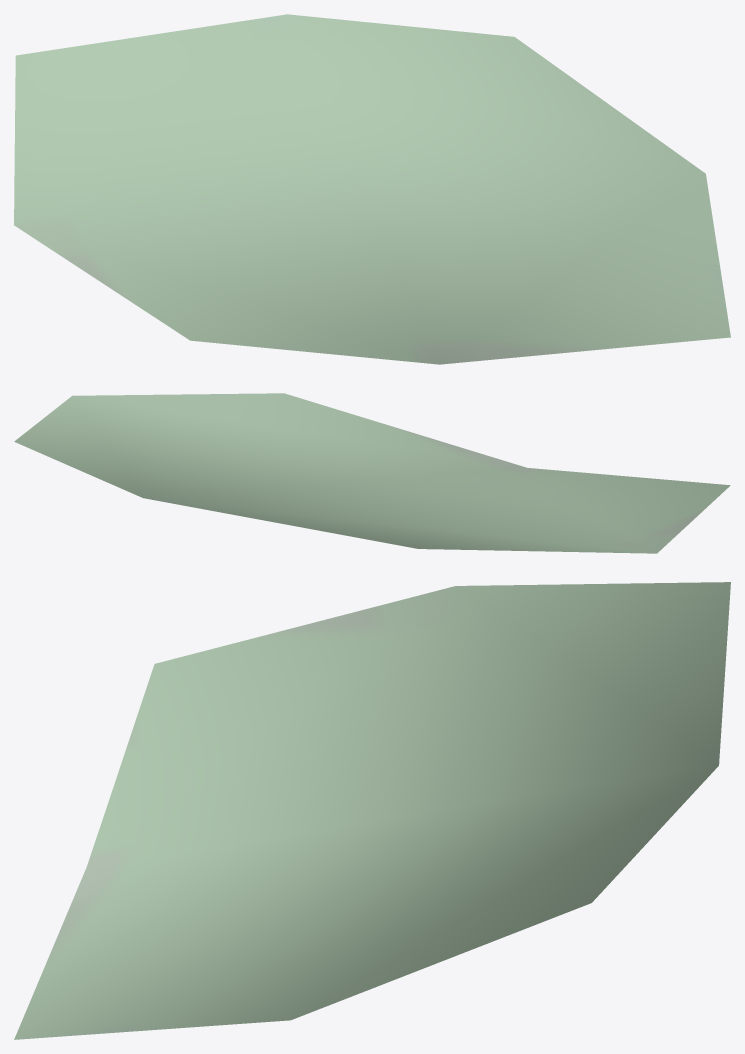
File: TROLLHOLE02_HOLECAP207.fbx
3 renders of one model, top to bottom at view 1: azimuth 30°, elevation 25°; view 2: azimuth 150°, elevation 25°; view 3: azimuth 270°, elevation 25°, orthographic. The views are drawn at different scales.
Visible parts, largest first — view 1: TROLLHOLE02_HOLECAP207; view 2: TROLLHOLE02_HOLECAP207; view 3: TROLLHOLE02_HOLECAP207.
Boxes of the visible parts, bbox=[...] form: TROLLHOLE02_HOLECAP207: bbox=[14, 14, 730, 364]; TROLLHOLE02_HOLECAP207: bbox=[14, 393, 730, 553]; TROLLHOLE02_HOLECAP207: bbox=[14, 582, 730, 1039].
Bounding box in the file's own units: 9185 × 2385 × 7487.
1 material, 1 textured.
